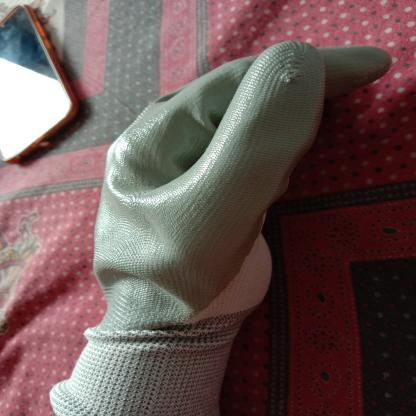gloved_hand: (37, 40, 397, 416)
